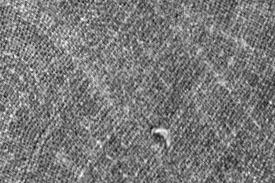snag: (145, 123, 178, 151)
